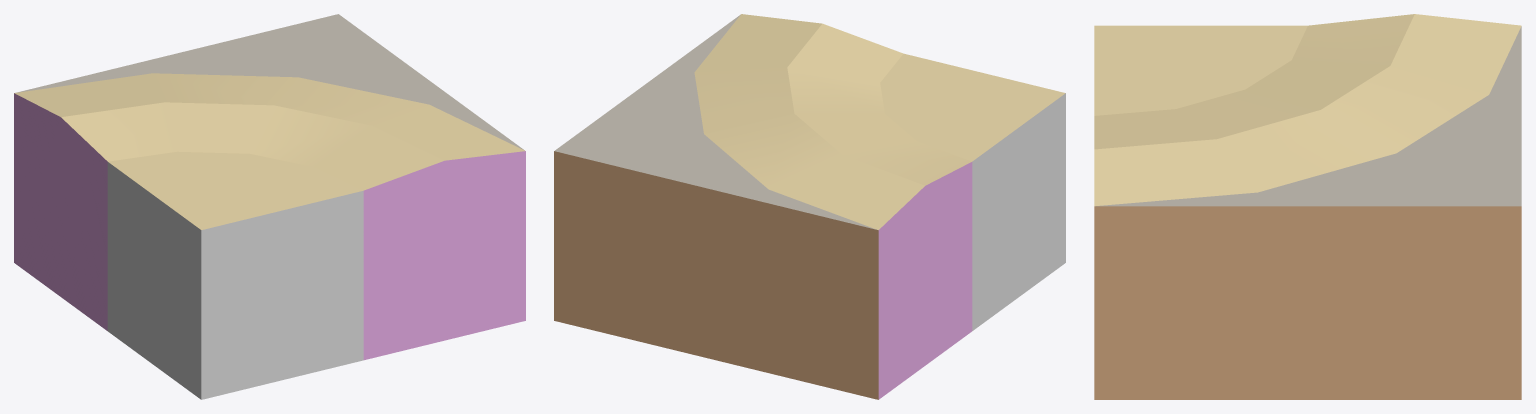
File: Tiered_Walkway_Path_Transition_Curve_Outer_2x2.glb
The picture shows the model from 3 angles, left to right: view 1: azimuth 30°, elevation 25°; view 2: azimuth 150°, elevation 25°; view 3: azimuth 270°, elevation 25°; orthographic projection. The views are drawn at different scales.
Visible parts, largest first — view 1: Tiered_Walkway_Path_Transition_Curve_Outer_2x2; view 2: Tiered_Walkway_Path_Transition_Curve_Outer_2x2; view 3: Tiered_Walkway_Path_Transition_Curve_Outer_2x2.
Part boxes in pixels (box(x1,y1,x2,y2)): Tiered_Walkway_Path_Transition_Curve_Outer_2x2: box(14, 14, 525, 399); Tiered_Walkway_Path_Transition_Curve_Outer_2x2: box(554, 14, 1065, 399); Tiered_Walkway_Path_Transition_Curve_Outer_2x2: box(1094, 14, 1521, 399).
Bounding box in the file's own units: 200 × 106 × 200.
